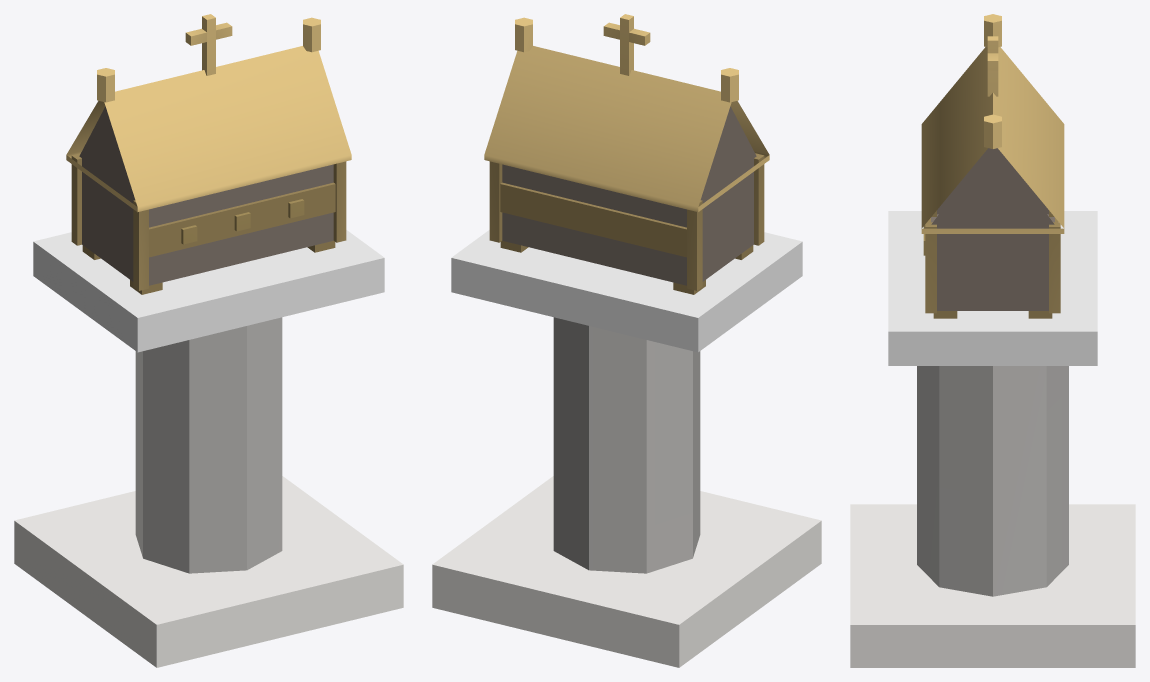
File: kit_bonus.glb
3 views of the same model, side by side, from view 1: azimuth 30°, elevation 25°; view 2: azimuth 150°, elevation 25°; view 3: azimuth 270°, elevation 25° (orthographic).
Visible parts, largest first — view 1: kit_bonus; view 2: kit_bonus; view 3: kit_bonus.
Boxes of the visible parts, x1,y1,x2,y2 form: kit_bonus: (14, 14, 403, 667); kit_bonus: (432, 14, 821, 667); kit_bonus: (850, 14, 1135, 667).
Size of the model in its own units: 0.6 by 1.32 by 0.6.
